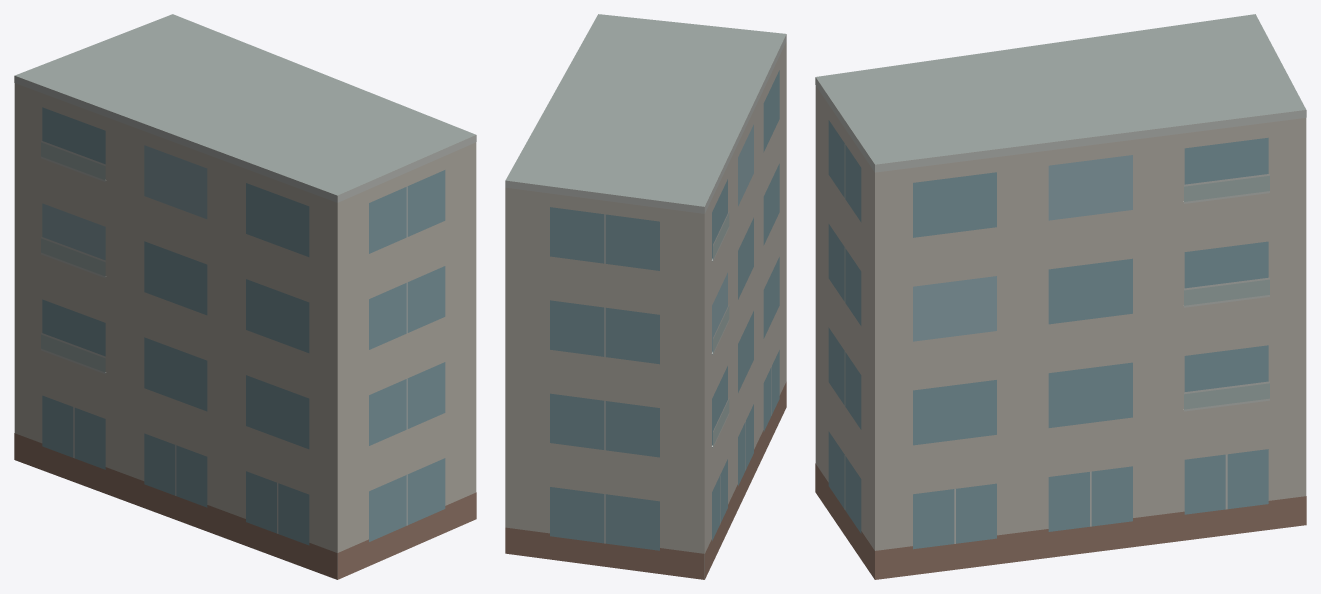
File: survey-upis-32897275.glb
3 renders of one model, left to right at view 1: azimuth 30°, elevation 25°; view 2: azimuth 150°, elevation 25°; view 3: azimuth 270°, elevation 25°, orthographic. The views are drawn at different scales.
Visible parts, largest first — view 1: survey-upis-32897275.tmp; view 2: survey-upis-32897275.tmp; view 3: survey-upis-32897275.tmp.
Boxes of the visible parts, x1,y1,x2,y2 form: survey-upis-32897275.tmp: [14, 14, 476, 579]; survey-upis-32897275.tmp: [505, 14, 786, 579]; survey-upis-32897275.tmp: [815, 14, 1306, 579].
Size of the model in its own units: 9.97 by 12.8 by 13.73.
